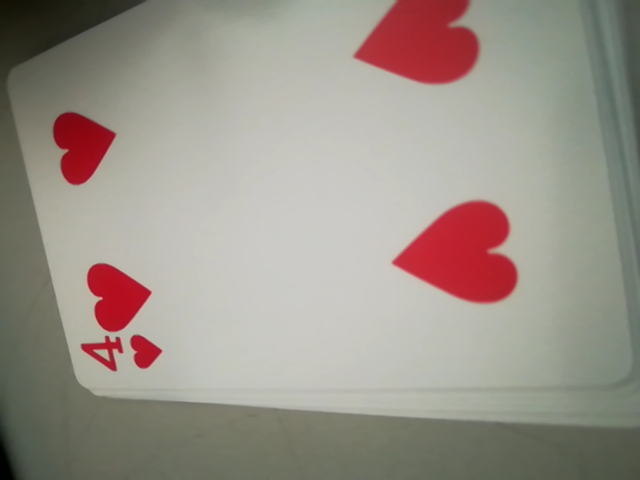hx 4: (76, 330, 163, 385)
